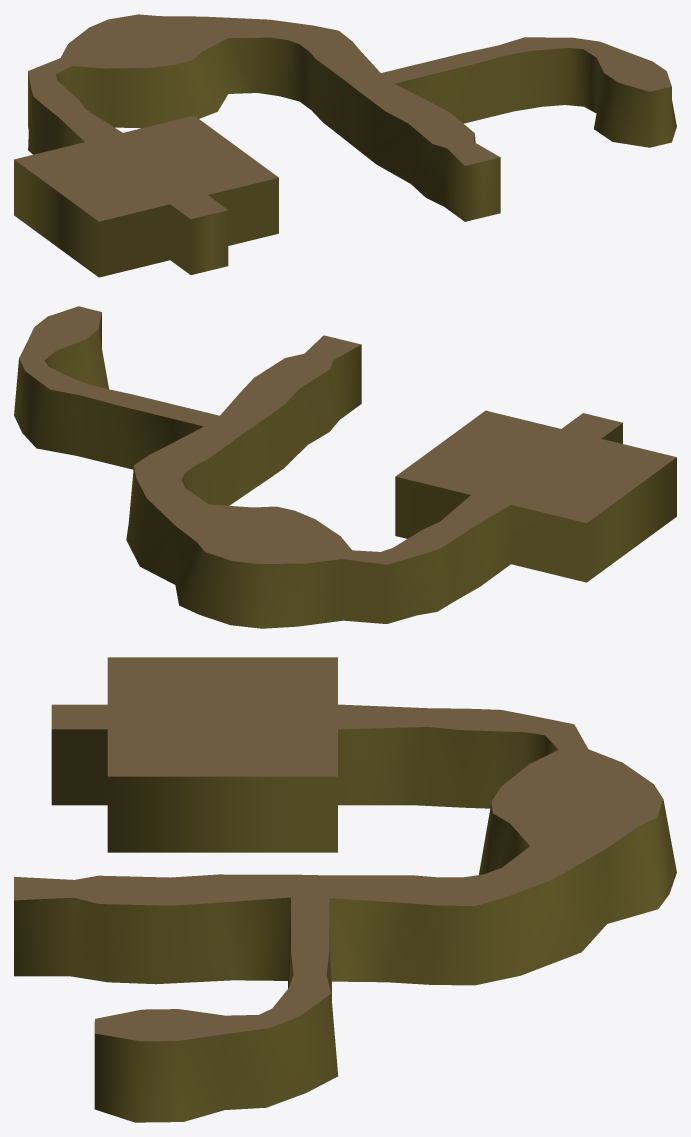
File: Dungeon.dae
The picture shows the model from 3 angles, top to bottom: view 1: azimuth 30°, elevation 25°; view 2: azimuth 150°, elevation 25°; view 3: azimuth 270°, elevation 25°; orthographic projection. The views are drawn at different scales.
Visible parts, largest first — view 1: Walls, Ceiling; view 2: Walls, Ceiling; view 3: Walls, Ceiling.
Part boxes in pixels (x1=…): Walls: x1=14, y1=37, x2=676, y2=277; Ceiling: x1=14, y1=14, x2=671, y2=221; Walls: x1=14, y1=313, x2=676, y2=628; Ceiling: x1=19, y1=306, x2=676, y2=564; Walls: x1=14, y1=727, x2=676, y2=1122; Ceiling: x1=14, y1=657, x2=663, y2=1041.
Size of the model in its own units: 33.01 by 23.75 by 3.
